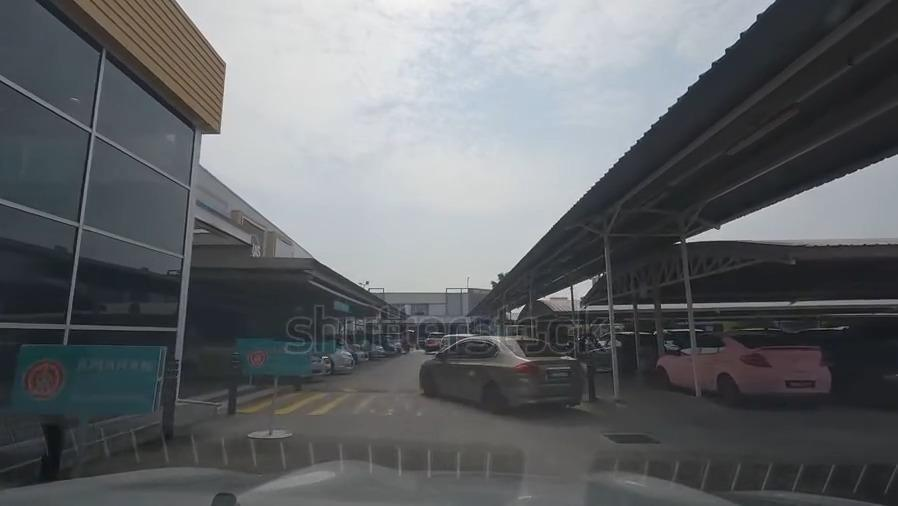car: (419, 338, 583, 411), (653, 341, 826, 398), (189, 336, 329, 377), (829, 339, 898, 401), (589, 331, 660, 363), (328, 347, 351, 371), (353, 343, 367, 361), (425, 330, 440, 346), (371, 343, 383, 359)
manhole: (604, 428, 655, 447)
pedestrian: (236, 398, 493, 421)
speedbump: (310, 383, 424, 395)
wheel: (481, 381, 503, 409), (419, 367, 436, 395)
